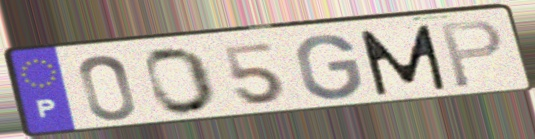0: (75, 52, 140, 123)
5: (219, 40, 288, 107)
G: (293, 32, 366, 102)
M: (355, 22, 451, 99)
O: (142, 45, 220, 117)
P: (437, 18, 506, 91)
